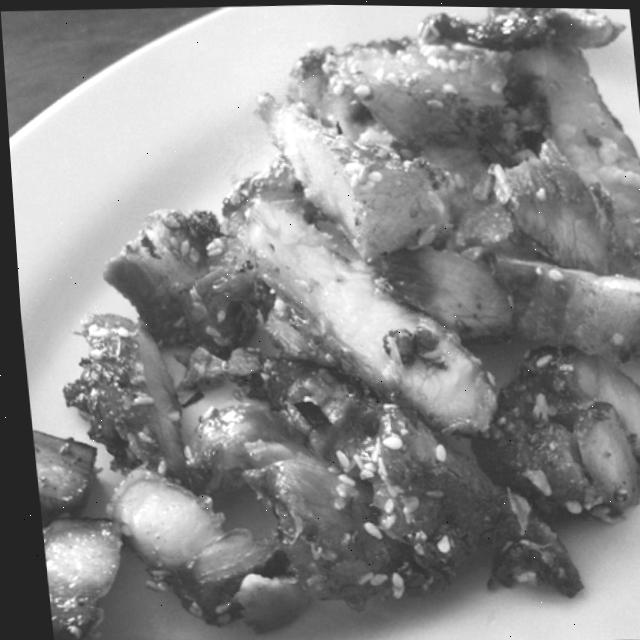猪肉菜式: (0, 9, 640, 640)
